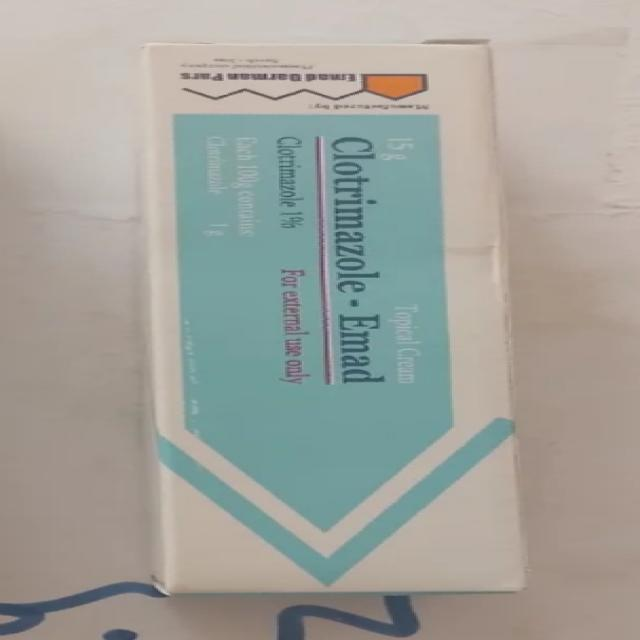drug-name: (316, 132, 388, 388)
